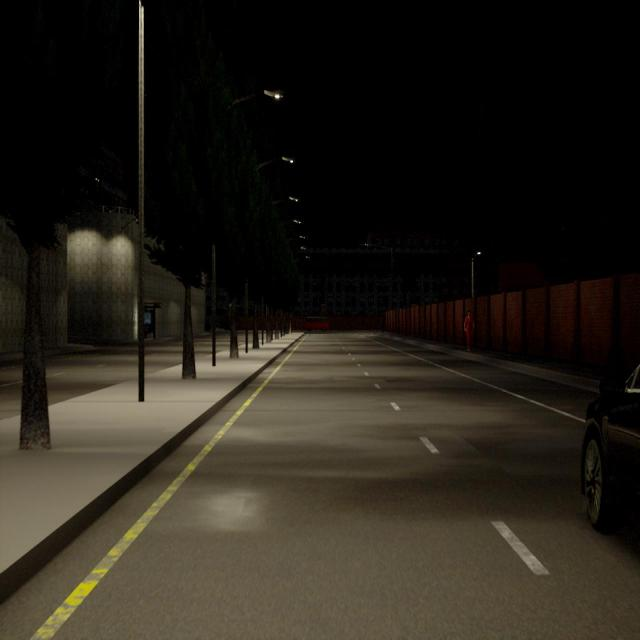Pedestrian: (464, 309, 474, 352)
Vehicle: (582, 365, 640, 530), (304, 316, 328, 332)
